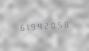eight: (66, 18, 72, 29)
five: (59, 18, 65, 29)
four: (38, 20, 44, 30)
nine: (31, 20, 37, 31)
one: (24, 21, 30, 31)
six: (17, 21, 23, 32)
two: (45, 19, 51, 30)
zero: (52, 19, 58, 30)
